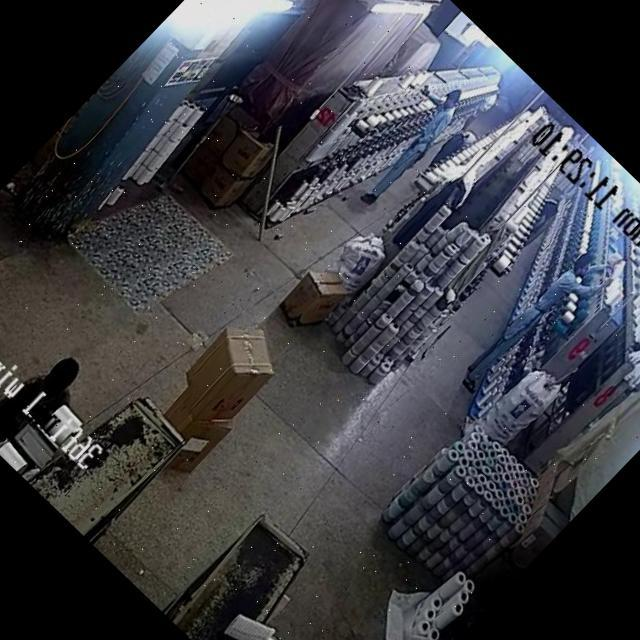person: (460, 244, 601, 390), (338, 85, 477, 227), (0, 342, 89, 440)
